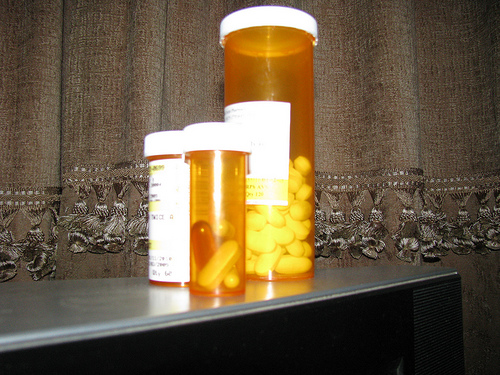pill bottle: (179, 120, 252, 304), (143, 127, 196, 293)
